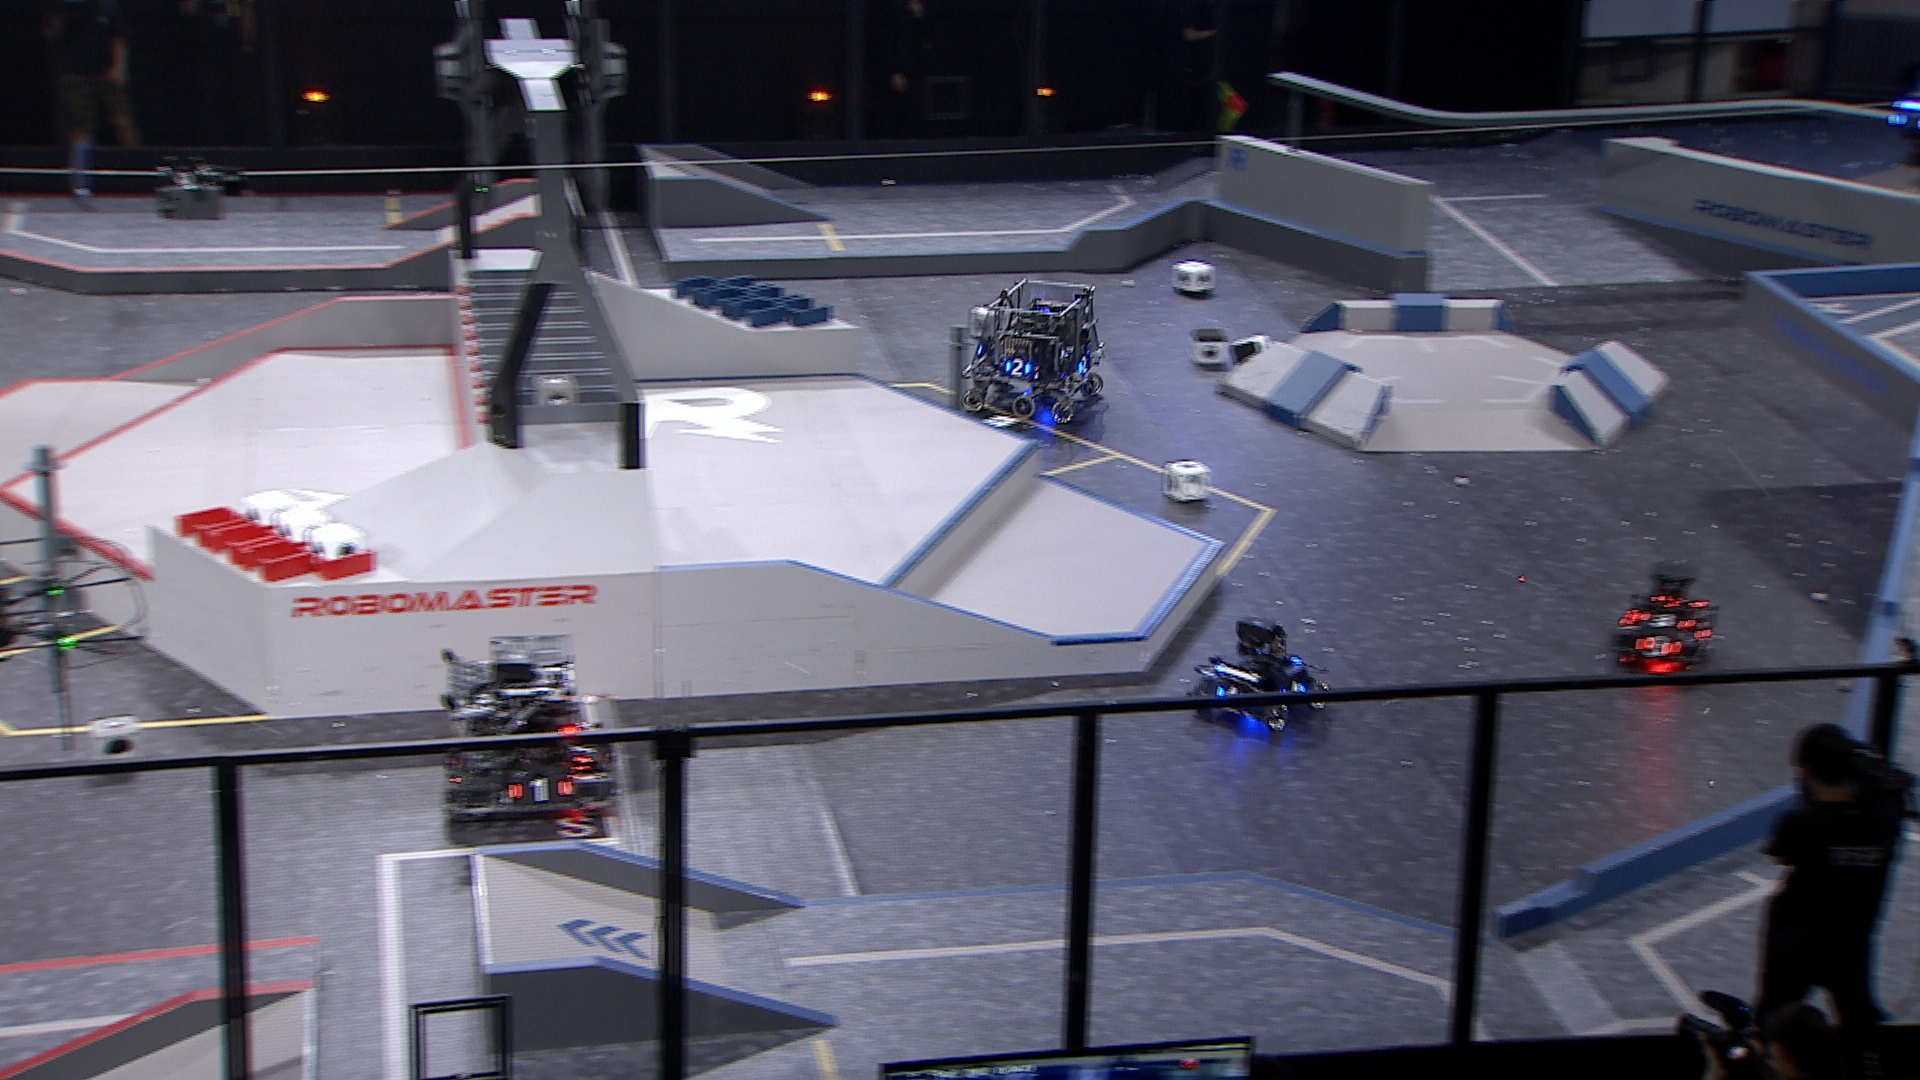armor: (505, 773, 575, 807), (566, 727, 603, 767), (1636, 608, 1695, 629), (1636, 633, 1676, 662), (1278, 680, 1313, 705), (1001, 356, 1034, 378), (1215, 680, 1240, 705), (1073, 352, 1095, 372)
car: (433, 632, 626, 823), (956, 276, 1102, 431), (1185, 612, 1329, 731), (1602, 556, 1724, 673)
watcher: (1887, 95, 1920, 167)
